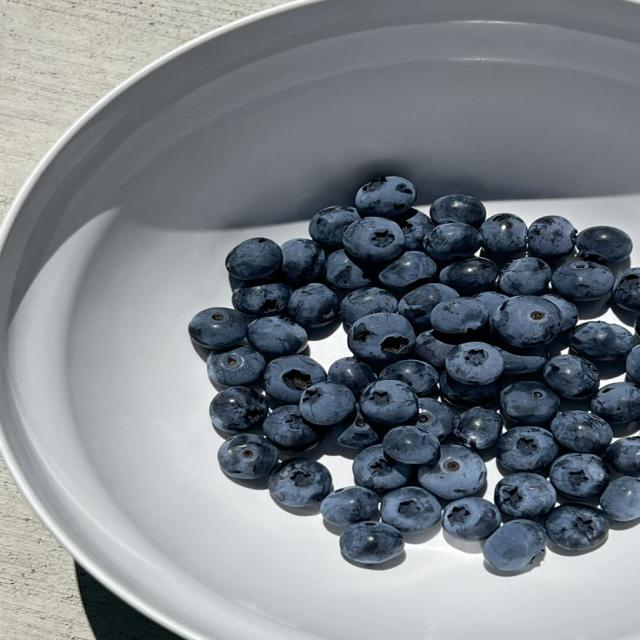blueberry: (418, 445, 486, 499), (492, 296, 561, 347), (348, 312, 415, 364), (483, 520, 546, 571), (268, 458, 332, 507), (264, 355, 326, 403), (549, 453, 610, 499), (494, 473, 556, 518), (546, 504, 608, 549), (381, 487, 441, 533), (353, 445, 413, 491), (340, 521, 404, 564), (263, 406, 324, 451), (497, 427, 559, 471), (218, 434, 278, 479), (343, 218, 404, 262), (210, 387, 268, 433), (398, 284, 458, 328), (551, 410, 613, 452), (500, 381, 560, 424), (552, 261, 614, 302), (442, 497, 501, 540), (299, 381, 355, 426), (360, 380, 417, 424), (355, 176, 416, 217), (569, 321, 633, 360), (188, 308, 247, 350), (543, 355, 599, 399), (446, 342, 504, 384), (226, 237, 282, 280), (287, 283, 339, 328), (247, 317, 307, 355), (207, 347, 265, 386), (379, 251, 437, 290), (382, 425, 439, 464), (320, 487, 378, 525), (527, 216, 576, 260), (309, 206, 359, 249), (380, 360, 439, 396), (431, 297, 488, 334), (576, 226, 633, 263), (440, 258, 498, 294), (340, 288, 398, 324), (424, 223, 480, 260), (440, 372, 499, 407), (498, 258, 552, 296), (281, 239, 325, 285), (454, 407, 502, 449), (328, 357, 377, 397), (330, 411, 380, 450), (480, 214, 526, 256), (592, 382, 639, 423), (324, 250, 372, 290), (233, 283, 291, 316), (430, 194, 486, 227), (600, 477, 639, 521), (394, 209, 433, 250), (415, 398, 453, 440), (414, 330, 454, 367), (543, 294, 579, 331), (607, 436, 639, 476), (497, 348, 546, 373), (613, 268, 639, 311), (474, 291, 509, 316), (626, 346, 639, 384), (634, 316, 639, 335)
